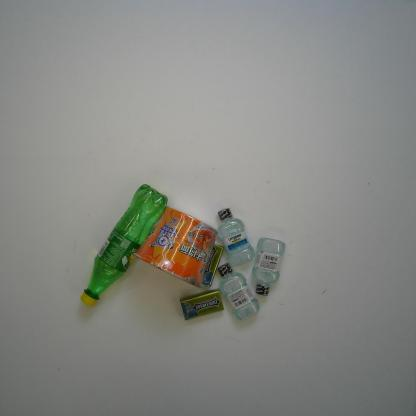Drink: (79, 183, 168, 308)
Gum: (179, 287, 225, 321), (201, 243, 224, 287)
Instant Noodles: (131, 205, 219, 289)
Personal Hygiene: (217, 262, 260, 321), (216, 207, 255, 266), (252, 237, 286, 297)
